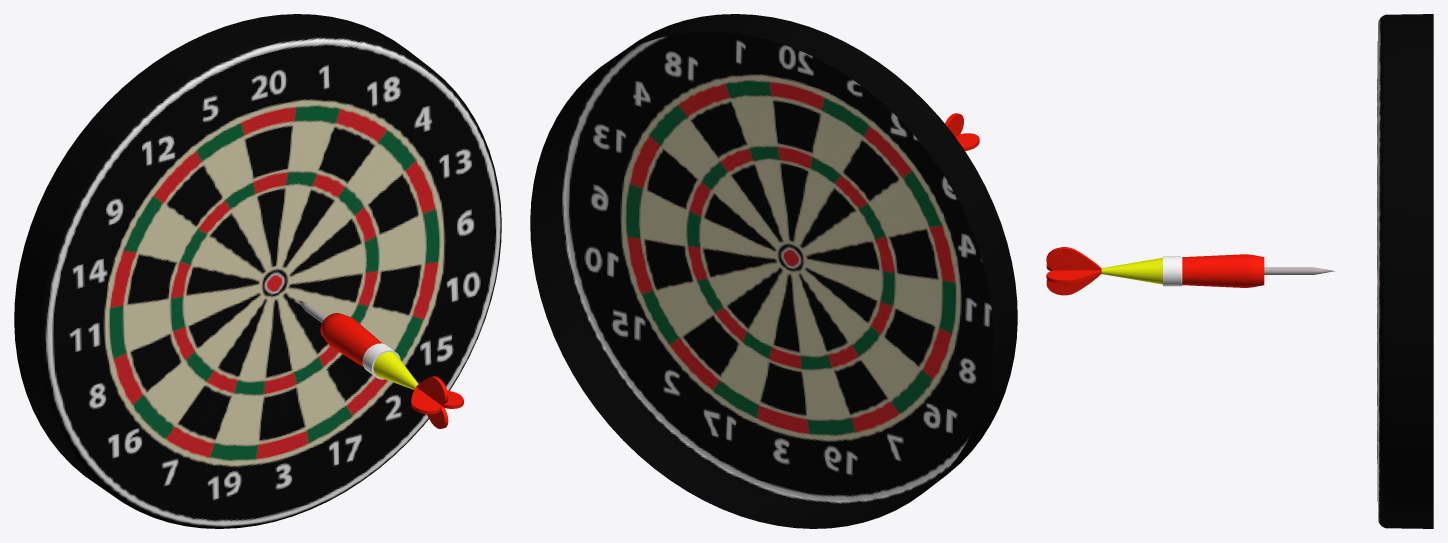
The model's file is Activity_5_Dart.fbx.
3 renders of one model, left to right at view 1: azimuth 30°, elevation 25°; view 2: azimuth 150°, elevation 25°; view 3: azimuth 270°, elevation 25°, orthographic. The views are drawn at different scales.
Visible parts, largest first — view 1: Dart, Hit; view 2: Dart, Hit; view 3: Dart, Hit.
Part boxes in pixels (box(x1,y1,x2,y2)): Dart: box(14, 14, 501, 528); Hit: box(297, 299, 463, 428); Dart: box(530, 14, 1017, 528); Hit: box(945, 113, 979, 150); Dart: box(1377, 14, 1433, 528); Hit: box(1046, 247, 1335, 295).
Bounding box in the file's own units: 6.39 × 6.39 × 4.8.
1 material, 1 textured.
